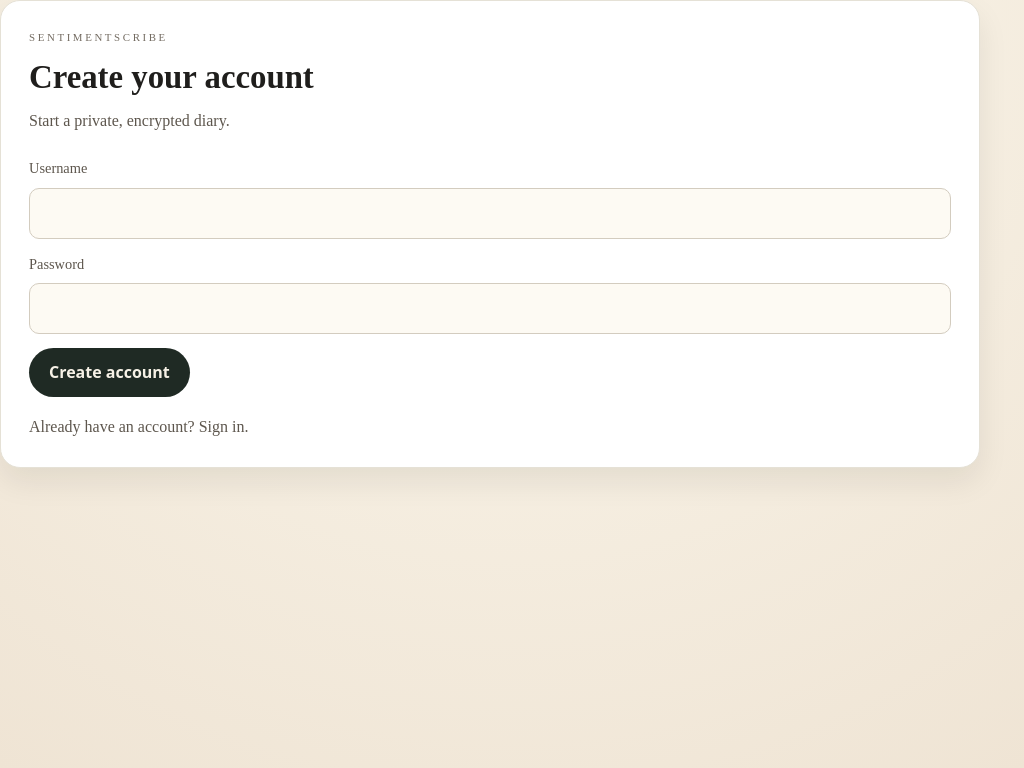
RegisterPage › shows backend error when registration fails
Type "taken" into the field labelled "Username".
click(490, 213); type("taken")  # box [29,188,951,239]
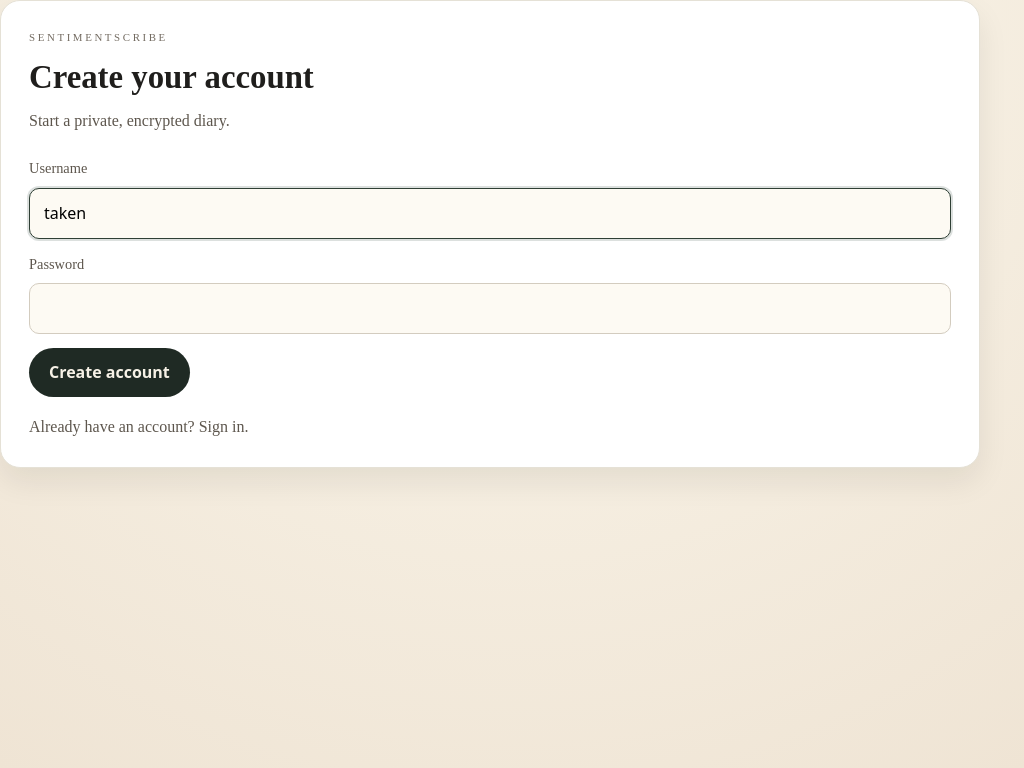
Type "secret" into the password field labelled "Password".
click(490, 308); type("secret")  # box [29,283,951,334]
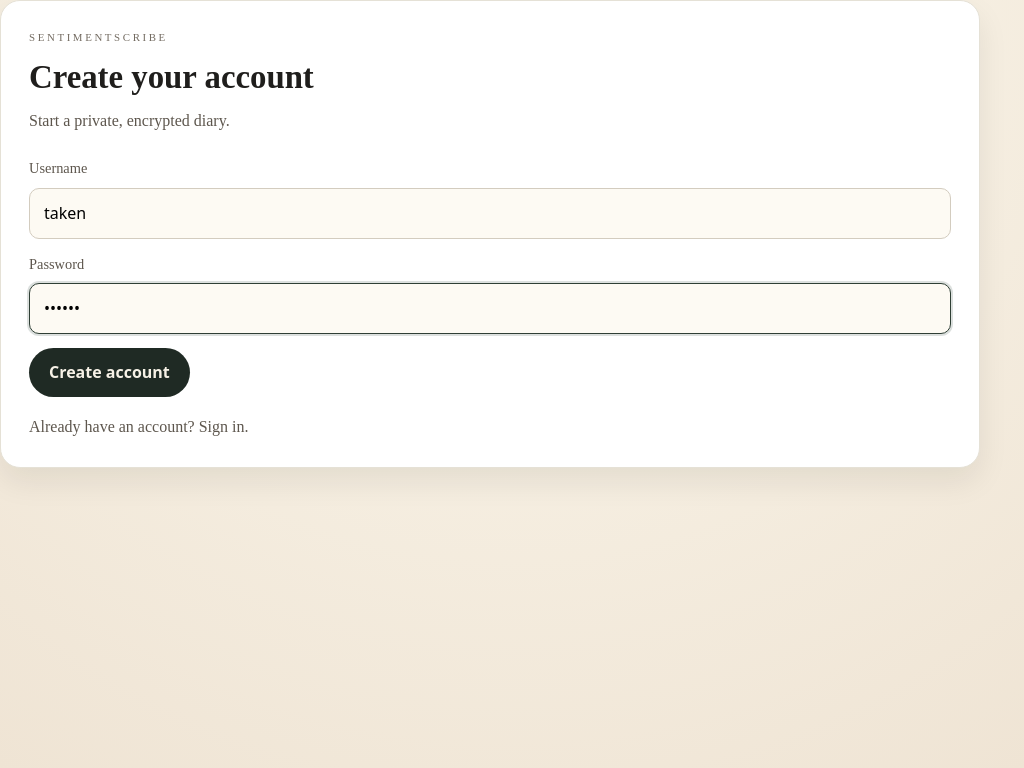
Click the button "Create account".
click(109, 372)  # box [29,348,190,396]
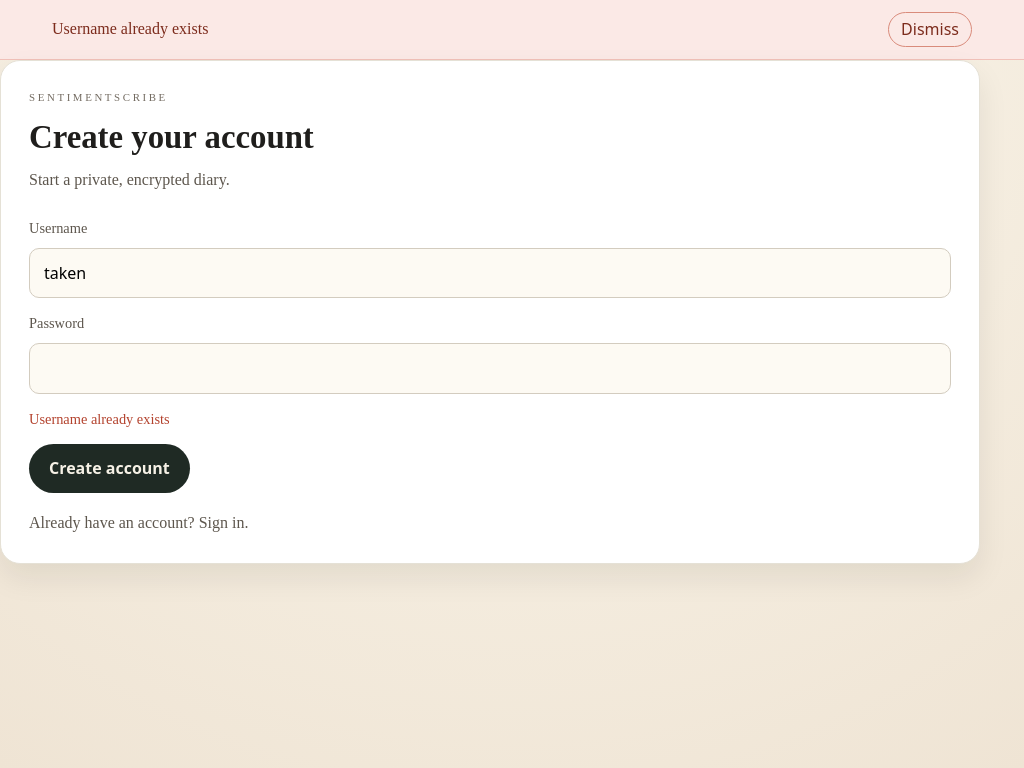
Expected: the text "Username already exists" is shown 2 times, [52,17,208,42]; [29,410,170,426]
